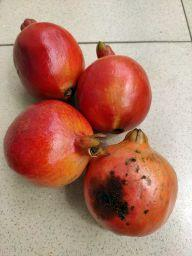pomegranate: (84, 129, 179, 236), (4, 100, 100, 189), (76, 41, 152, 133), (13, 17, 85, 101)
